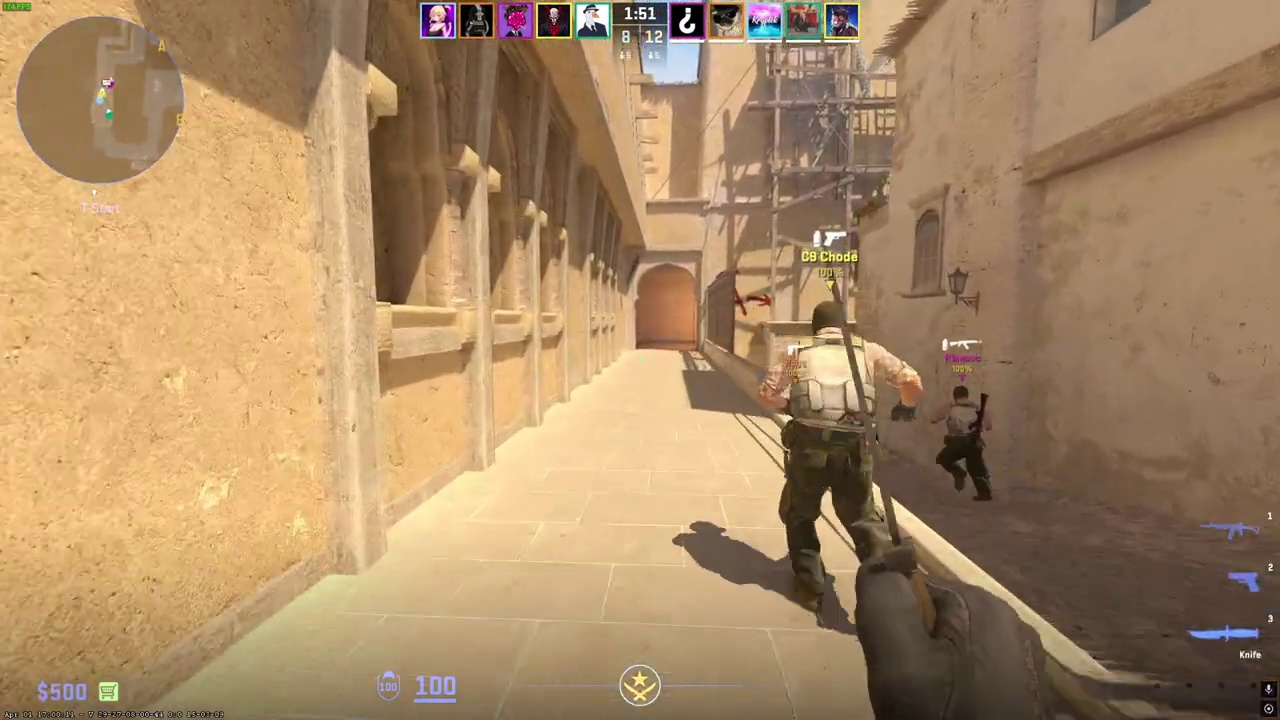Terrorist: (768, 300, 907, 612), (936, 385, 993, 502)
